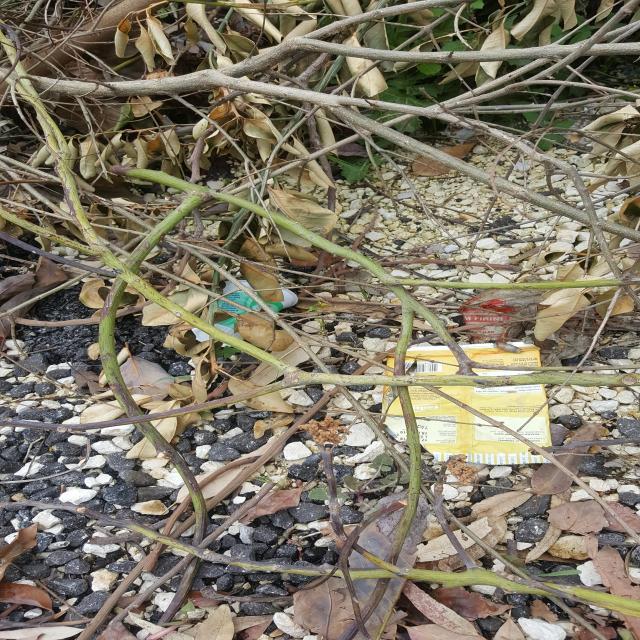litter: (379, 342, 556, 466), (189, 281, 299, 348), (461, 290, 537, 344)
